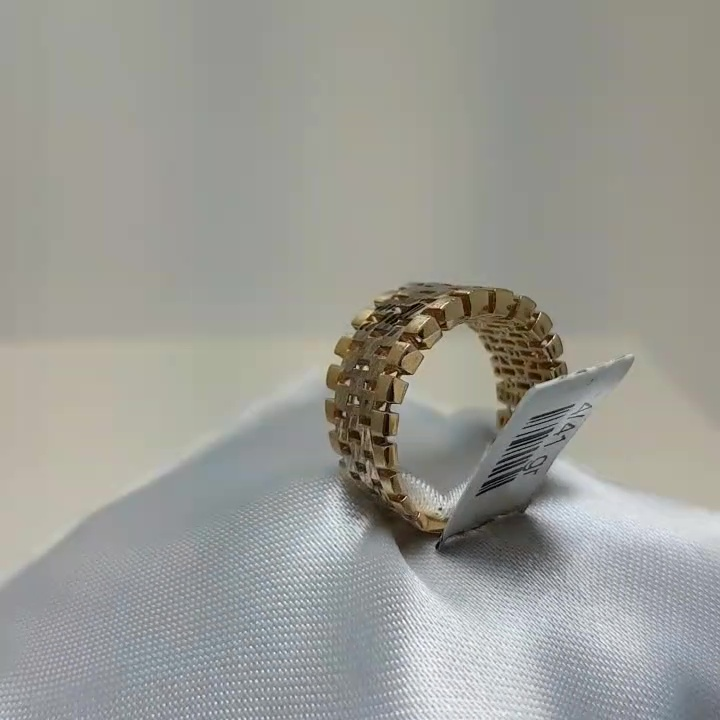Ring 1: (256, 268, 583, 558)
